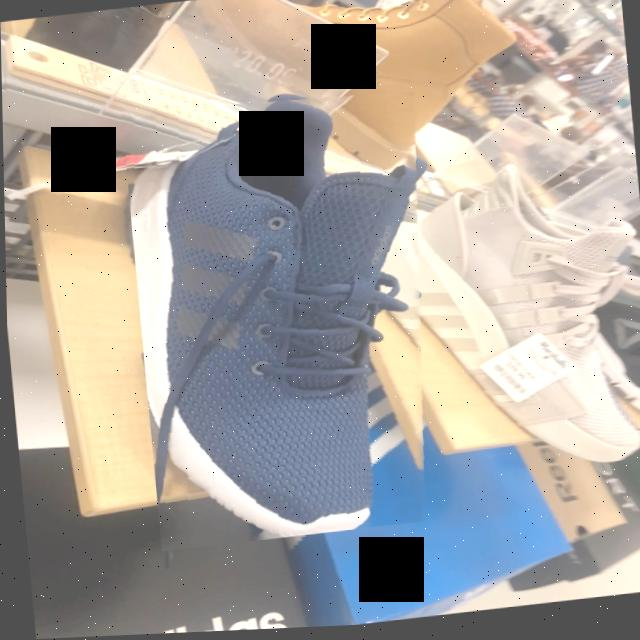shoe: (127, 102, 417, 539)
